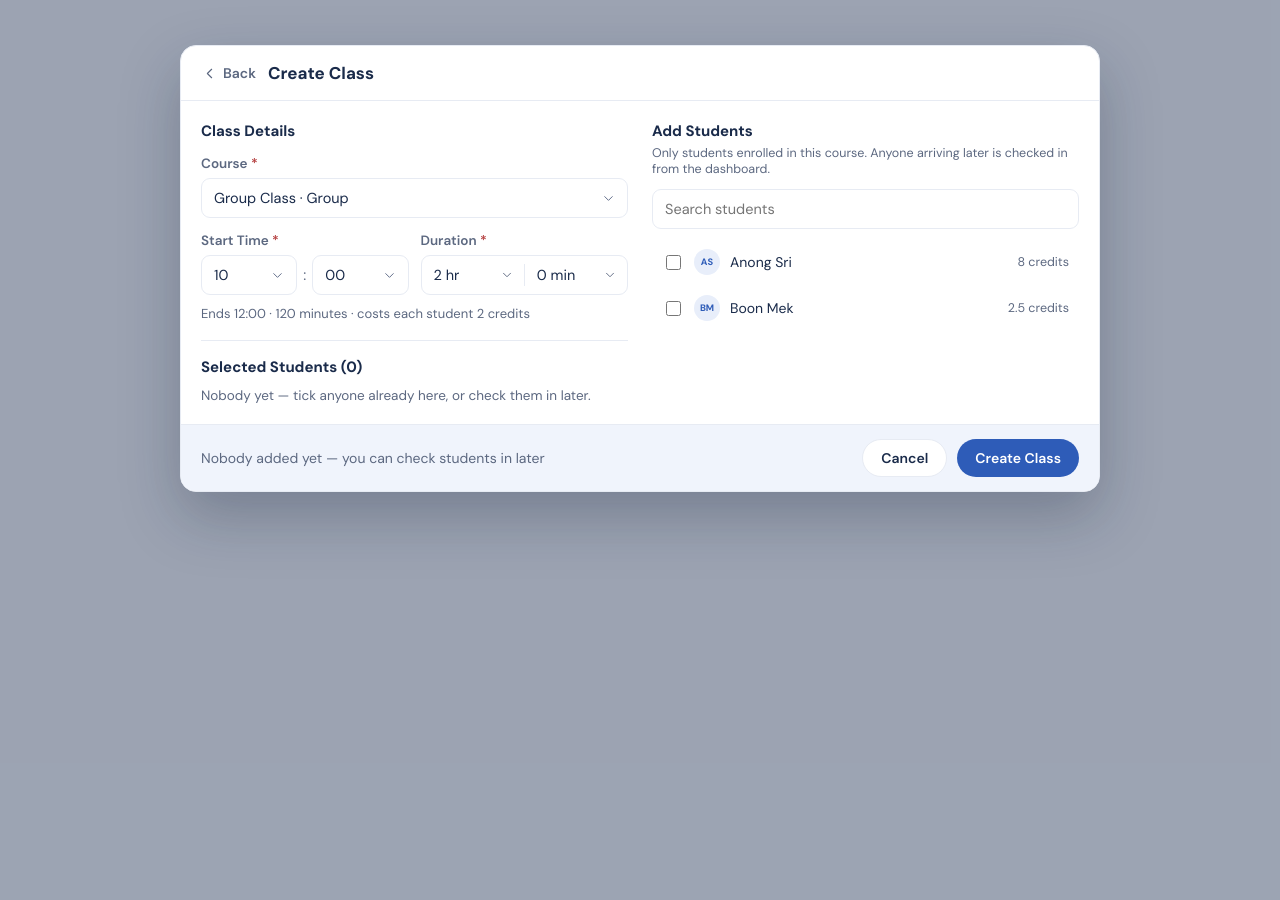
Test: choosing the times › treats an hour on its own as a whole time
Select "--" in the dropdown named "Start minute". click: (360, 275)
box: top-left (312, 255), bottom-right (408, 295)
Select "14" in the dropdown named "Start hour". click: (249, 275)
box: top-left (201, 255), bottom-right (297, 295)
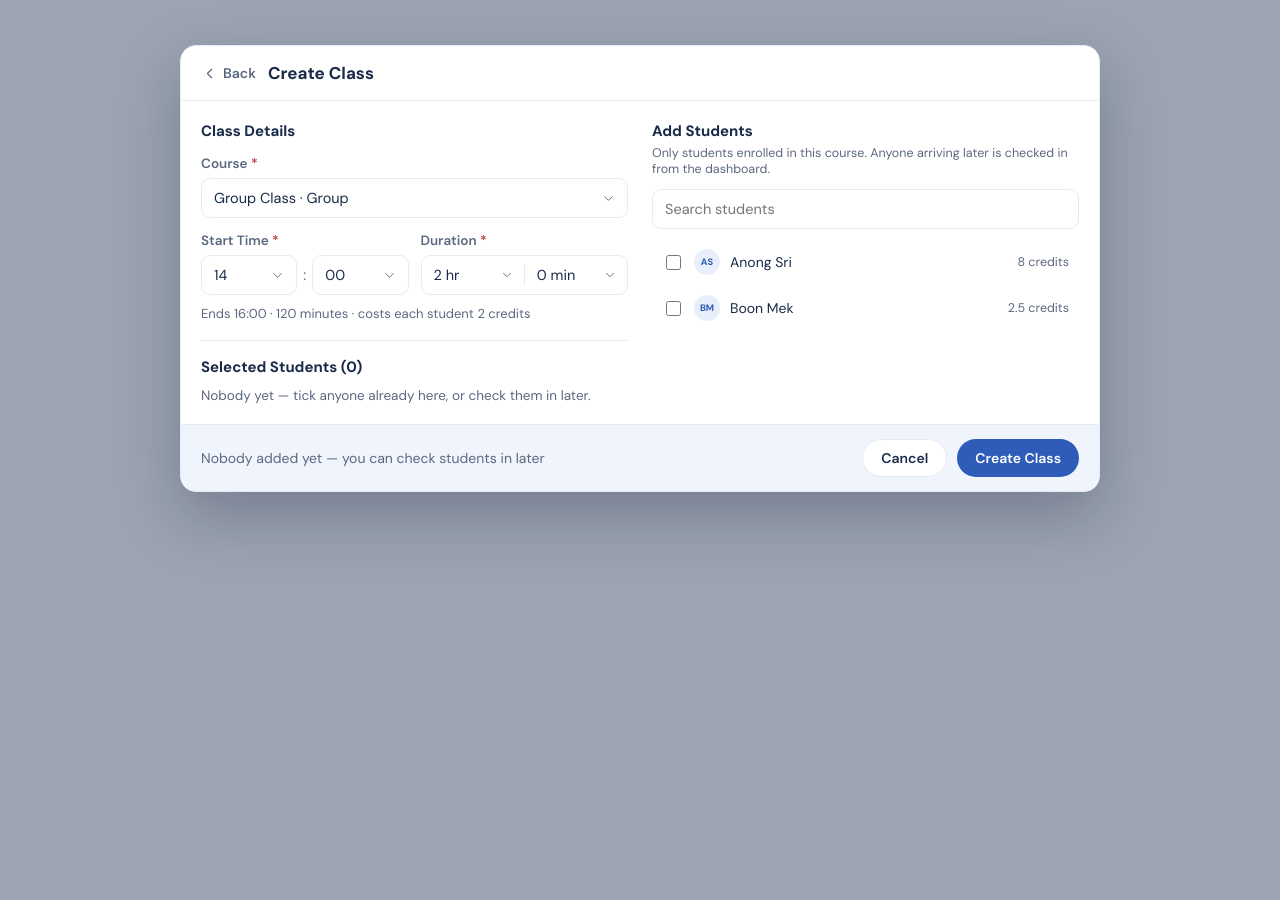
expect the text "Ends 16:00 · 120 minutes · costs each student 2 credits" is shown: met, box top-left (201, 305), bottom-right (531, 322)
